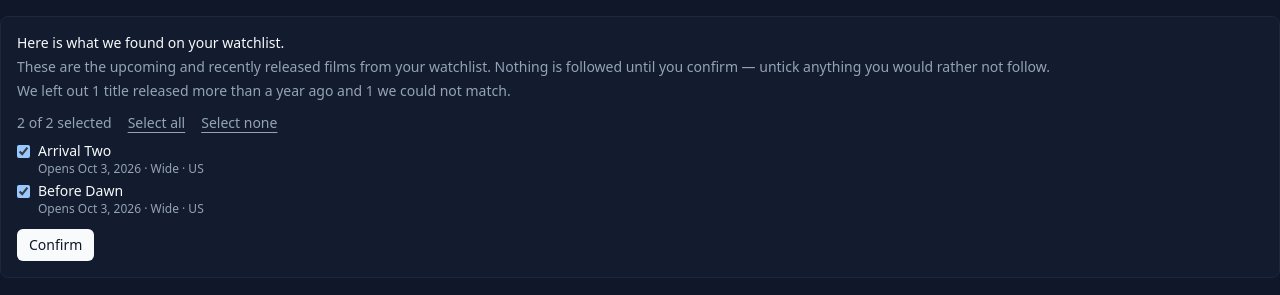
Test: ImportProgress › a job awaiting review (EF-22) › selects none and all
The width and height of the screenshot is (1280, 295).
Click the button "Select none".
click(239, 123)  # box [201, 113, 277, 133]
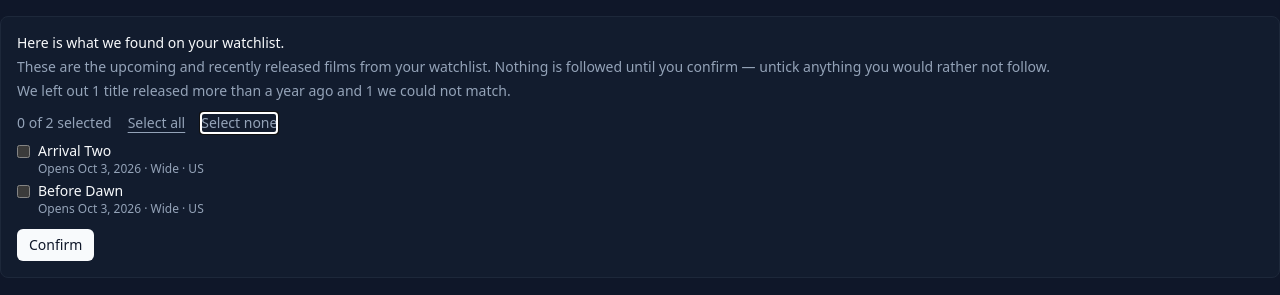
Expected: the text "0 of 2 selected" is shown, [17, 113, 112, 133]
Expected: the checkbox labelled "Arrival Two Opens Oct 3, 2026 · Wide · US" is not checked, [17, 145, 30, 158]
Click the button "Select all".
click(156, 123)  # box [128, 113, 185, 133]
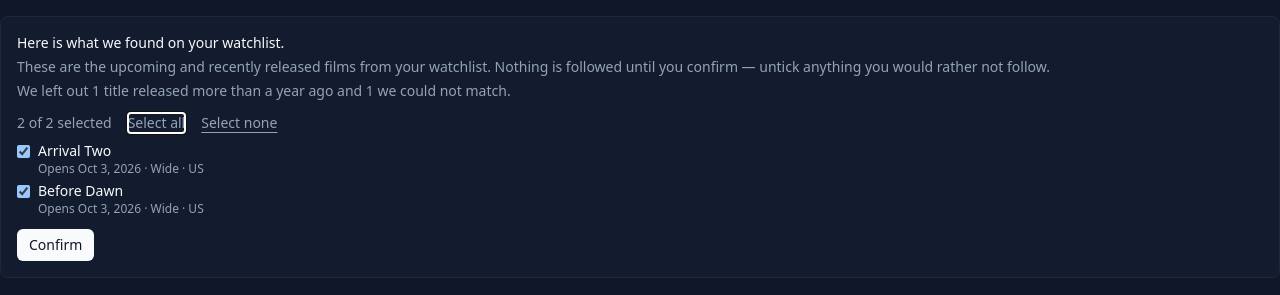
Expected: the text "2 of 2 selected" is shown, [17, 113, 112, 133]
